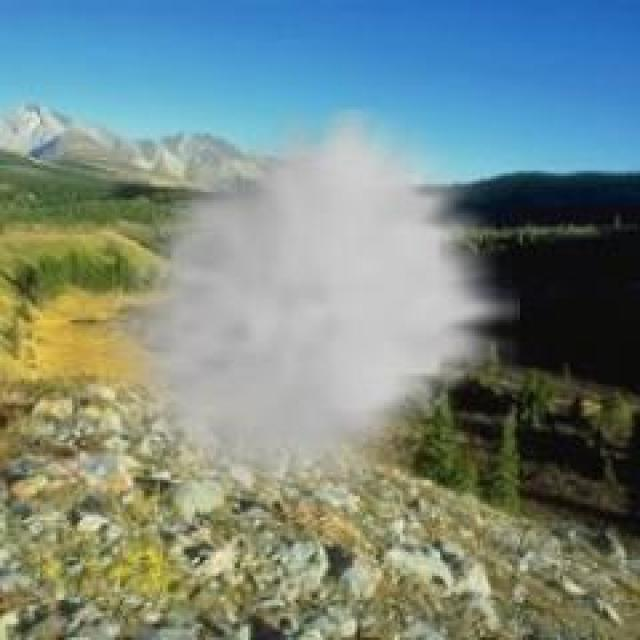Smoke: (116, 102, 528, 525)
